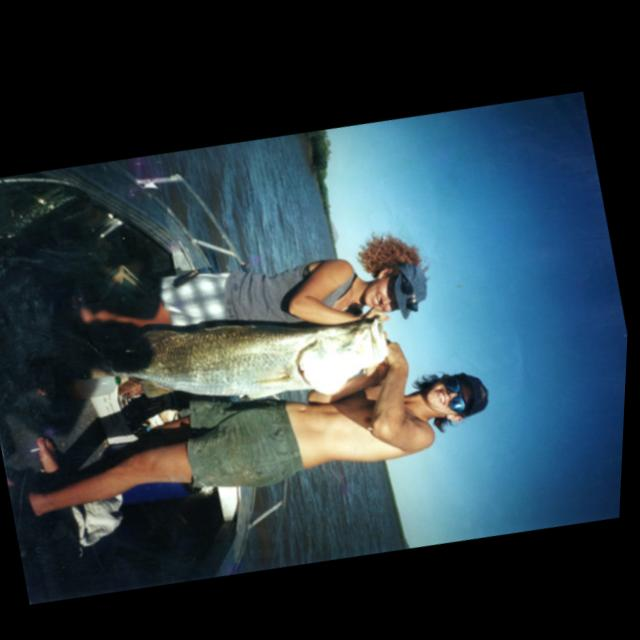Seabass: (64, 267, 398, 453)
